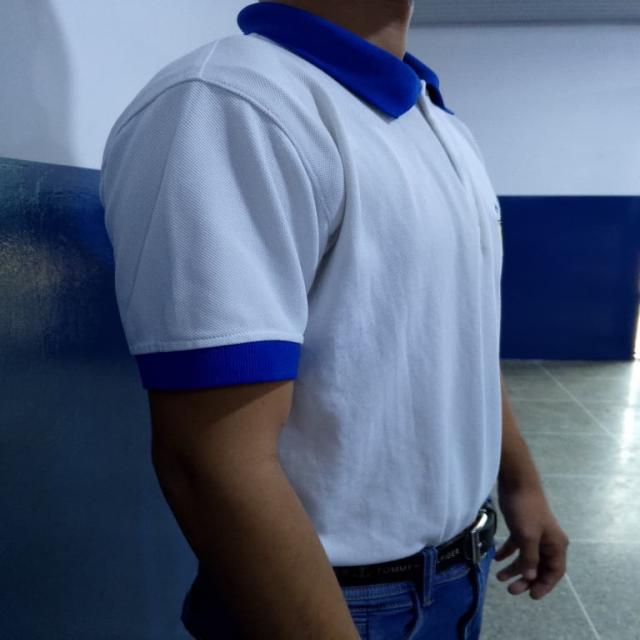uniforme_superior: (97, 1, 504, 567)
